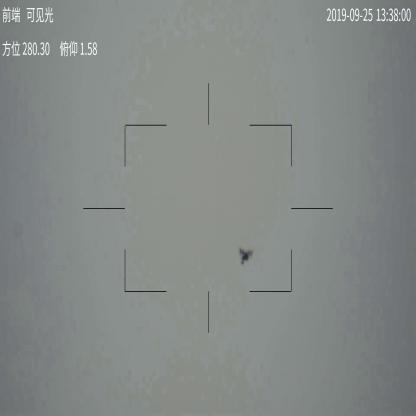uav: (238, 244, 255, 267)
